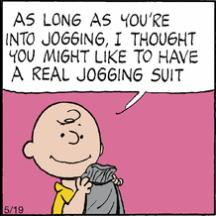charlie: (22, 100, 124, 216)
